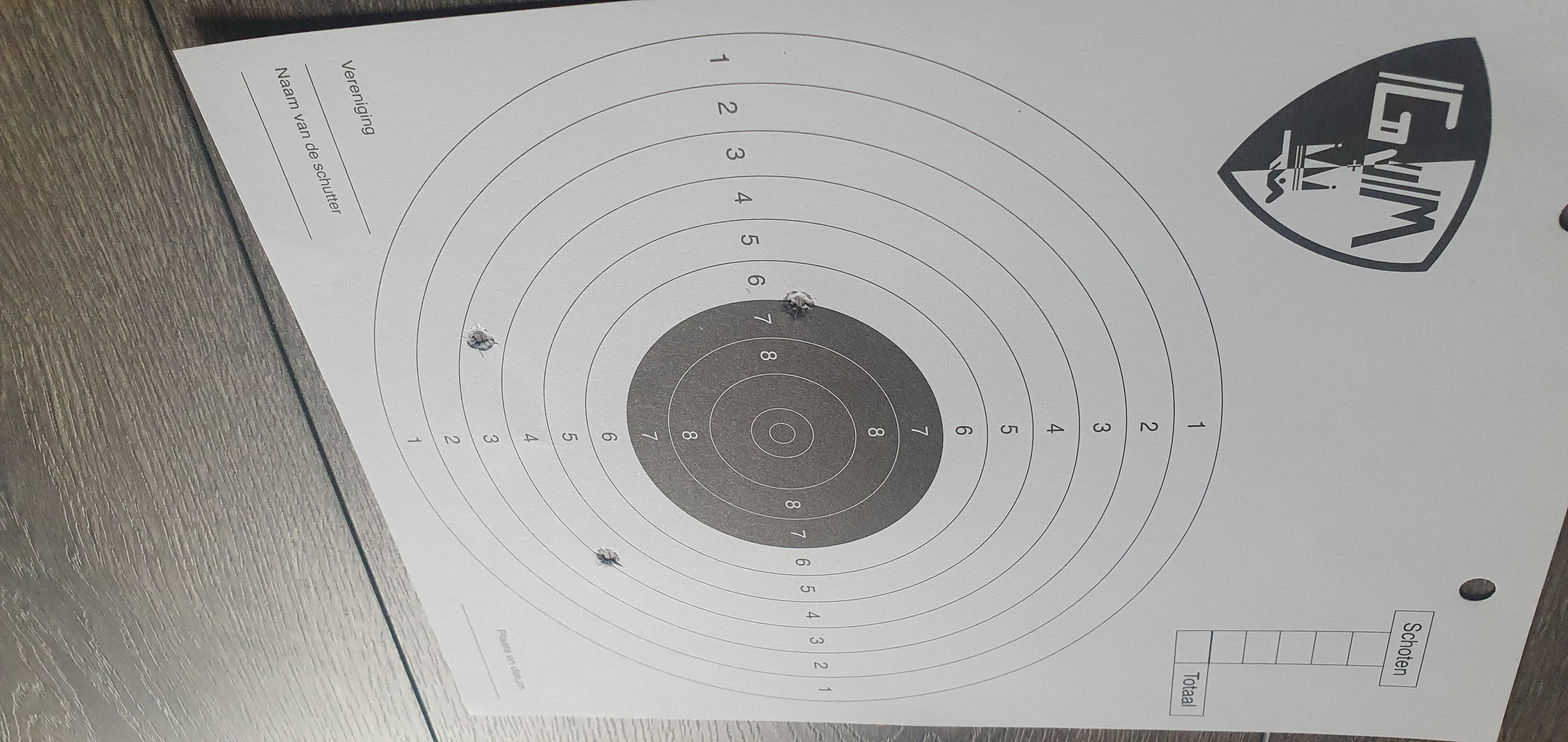hole: (1068, 383, 1109, 421), (751, 420, 790, 454), (945, 172, 976, 196)
